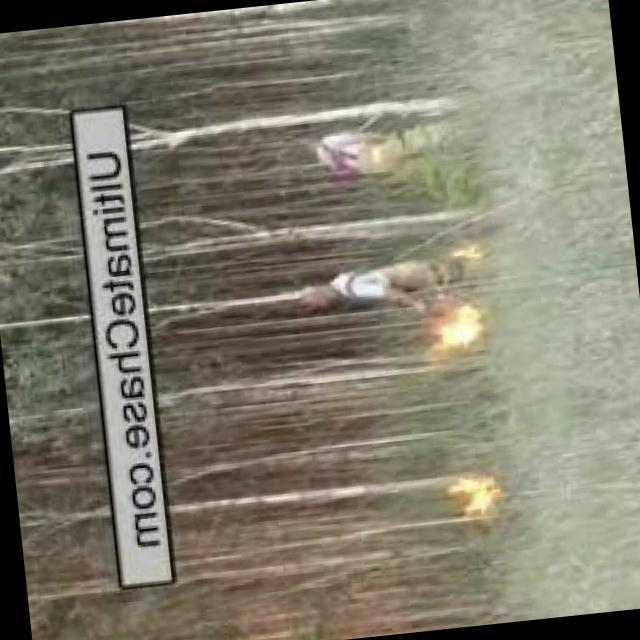Fire: (453, 472, 504, 523), (437, 304, 487, 351), (452, 238, 490, 264)
